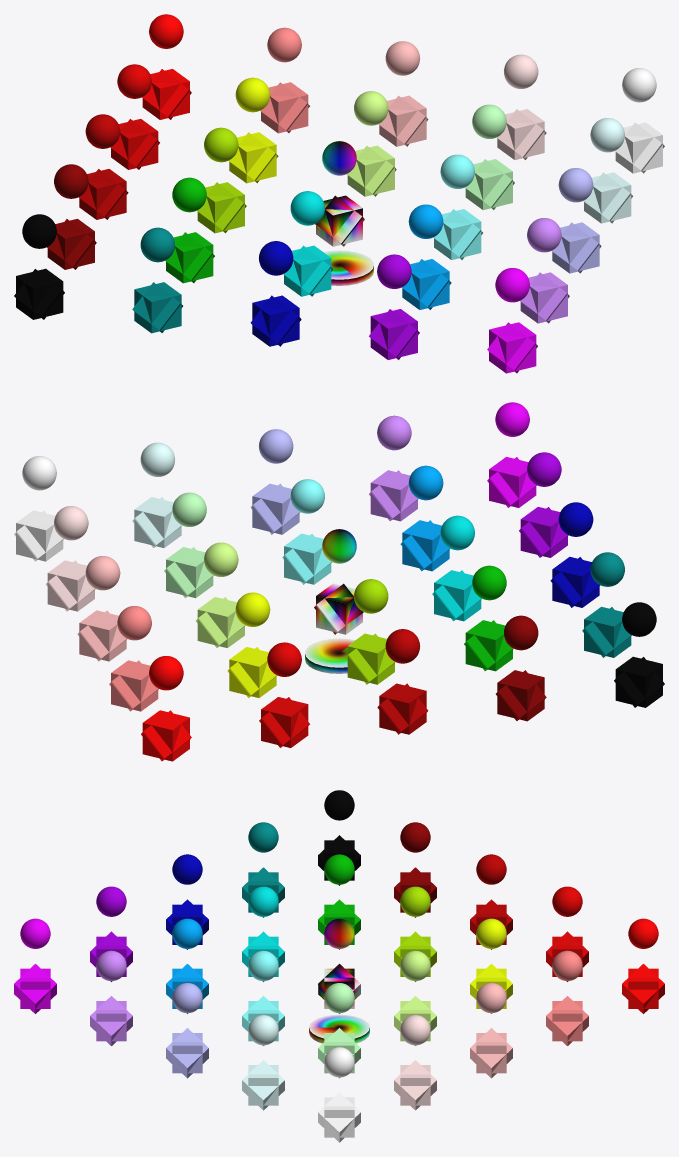
The picture shows the model from 3 angles, top to bottom: view 1: azimuth 30°, elevation 25°; view 2: azimuth 150°, elevation 25°; view 3: azimuth 270°, elevation 25°; orthographic projection. The views are drawn at different scales.
Parts seen in each view (by area): view 1: cube (×25), sphere (×25), diamond (×25), base; view 2: cube (×25), sphere (×25), diamond (×25), base; view 3: sphere (×25), diamond (×9), cube (×9), base.
Part boxes in pixels (x1,y1,x2,y2): cube (×25): [16, 69, 662, 373]; sphere (×25): [22, 14, 656, 302]; diamond (×25): [14, 69, 664, 373]; base: [323, 250, 373, 285]; cube (×25): [16, 457, 662, 761]; sphere (×25): [22, 402, 656, 690]; diamond (×25): [14, 457, 664, 761]; base: [305, 638, 355, 673]; sphere (×25): [20, 790, 658, 1077]; diamond (×9): [14, 964, 664, 1142]; cube (×9): [20, 968, 658, 1137]; base: [309, 1014, 369, 1043].
Bounding box in the file's own units: 10.85 × 2.05 × 10.71.
27 materials, 2 textured.
